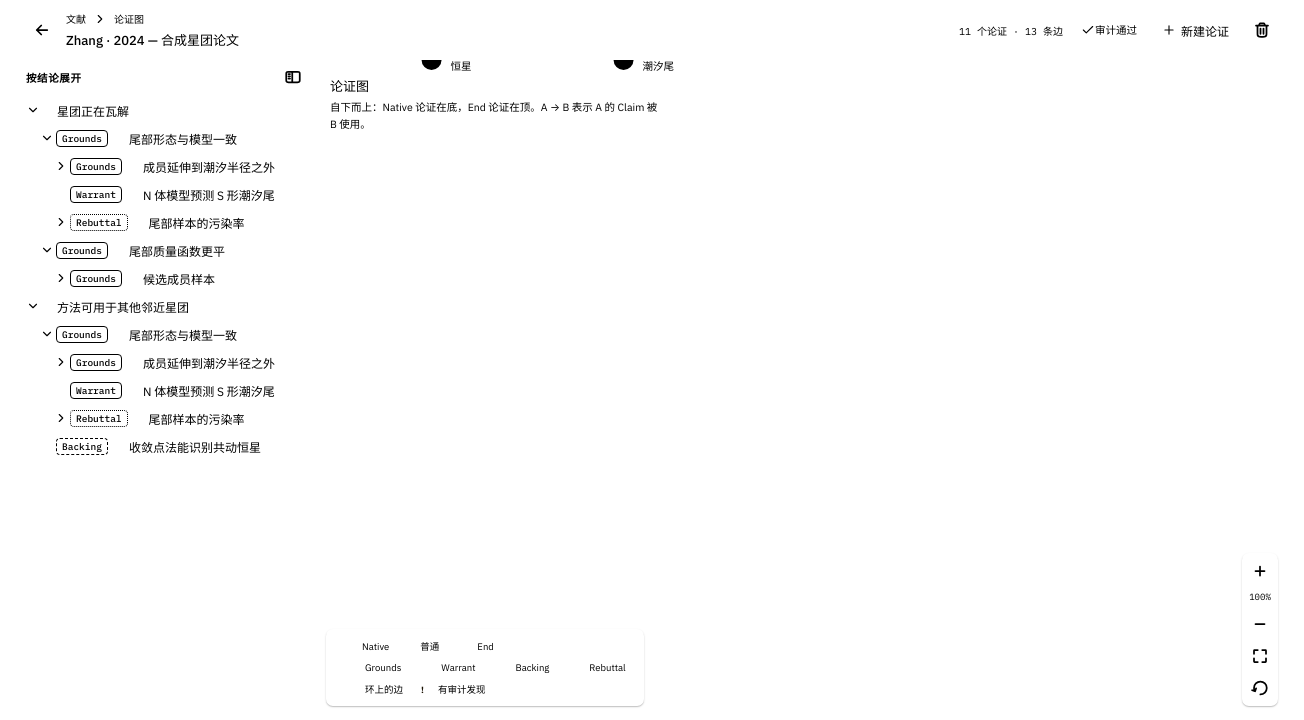
new argument › opens the panel in edit mode on the short title; an empty title cannot be saved; Save writes at the rev that was read and selects it
This screenshot has width=1304, height=720.
Click the button "新建论证": (1196, 30) [1151, 14, 1240, 46]
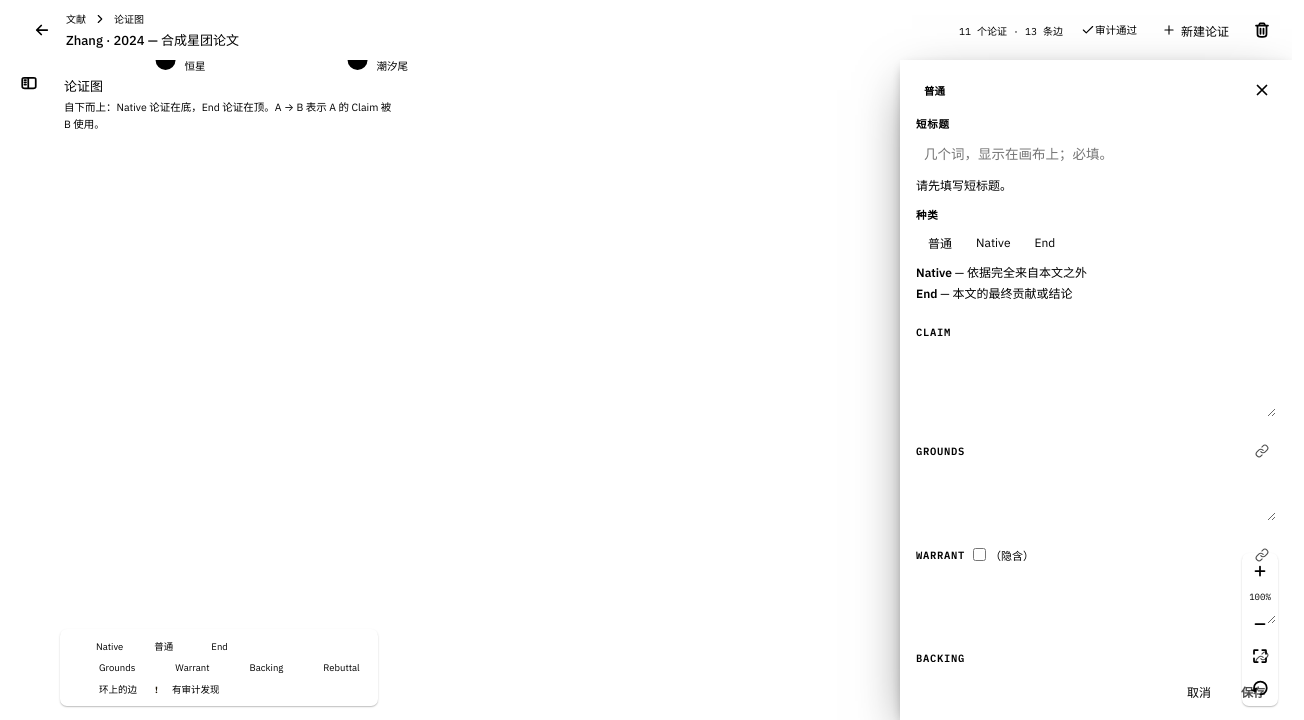
In the field labelled "短标题": (1096, 154) [916, 136, 1276, 172], type "新的论证"
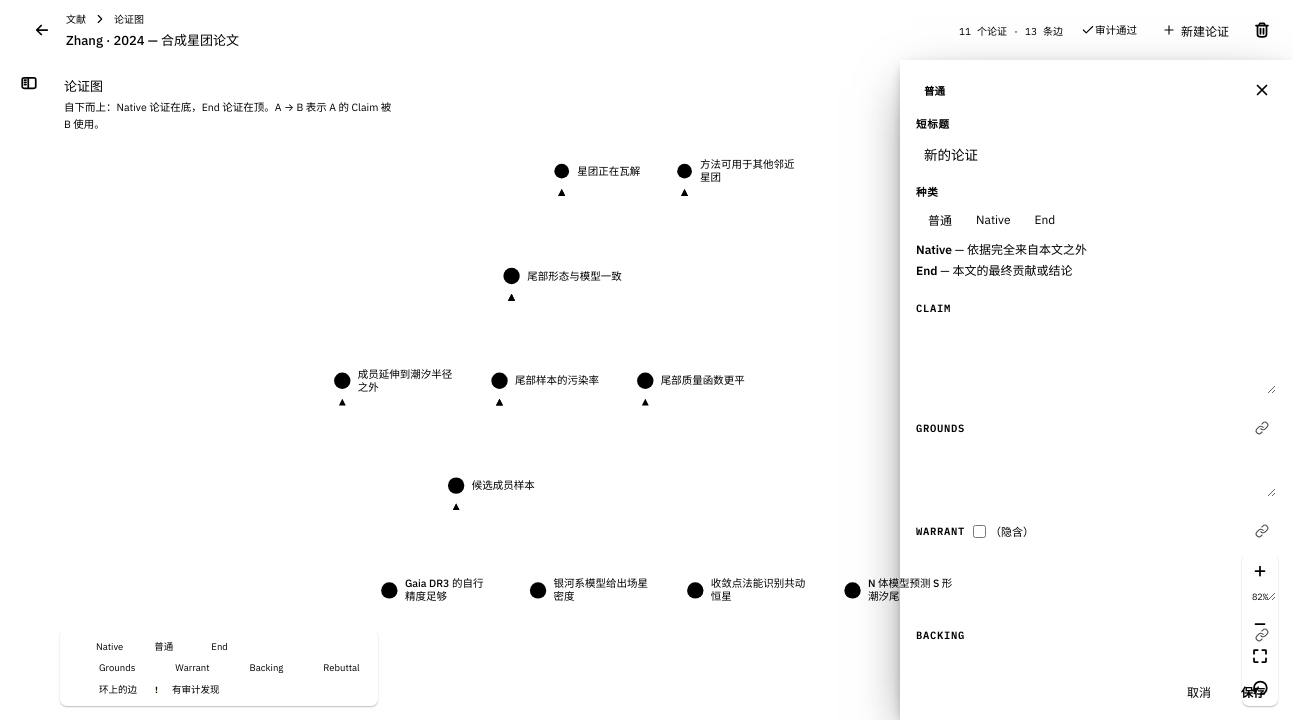
In the text box named "Claim": (1096, 359) [916, 324, 1276, 394], type "新 Claim"
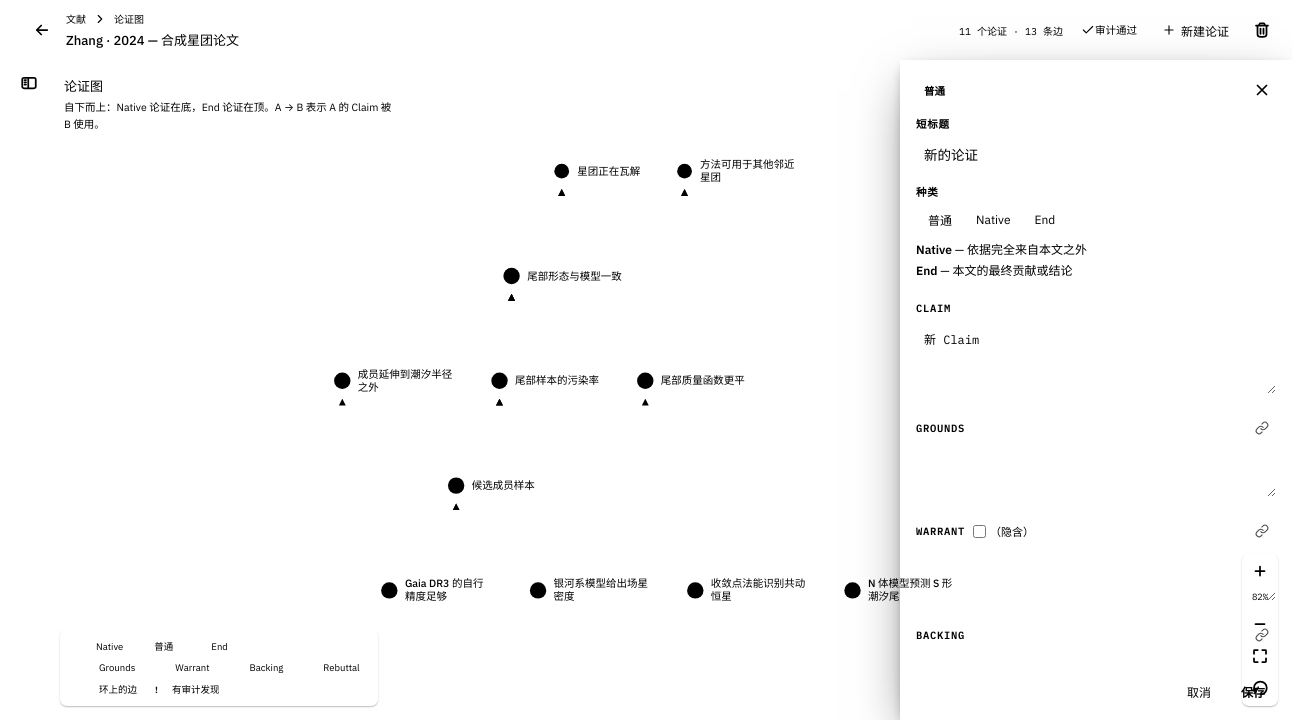
Click the radio button labelled "Native": (993, 219) [964, 204, 1022, 234]
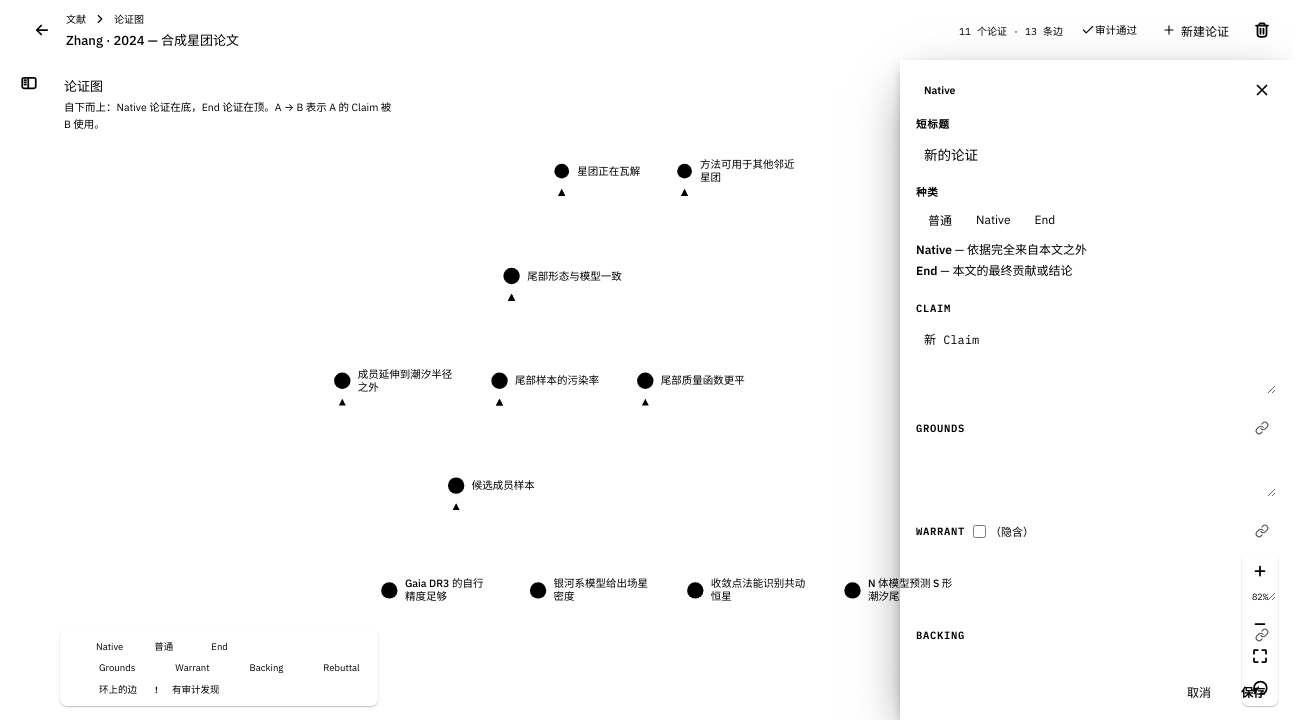
Click the button "保存": (1253, 691) [1230, 675, 1276, 707]
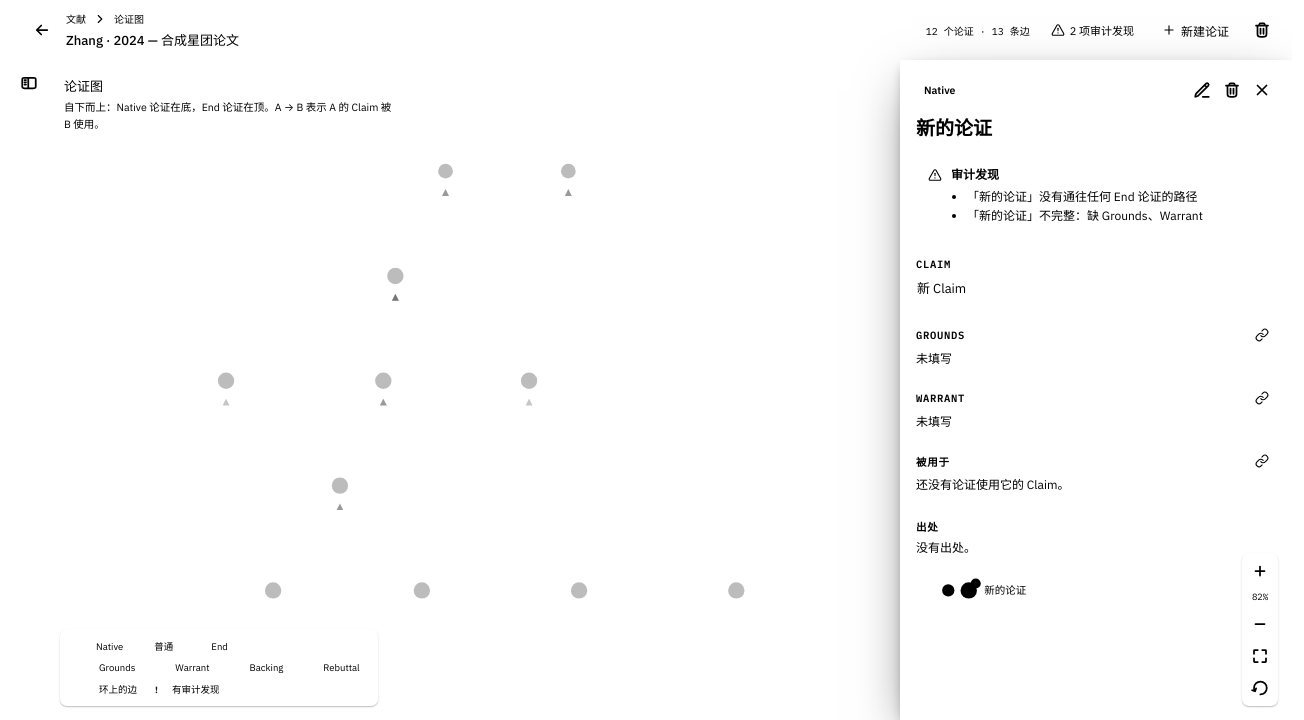
Expected: the text "12 个论证 · 13 条边" is shown, [926, 22, 1030, 38]
Expected: the heading "新的论证" is shown, [916, 116, 992, 140]
